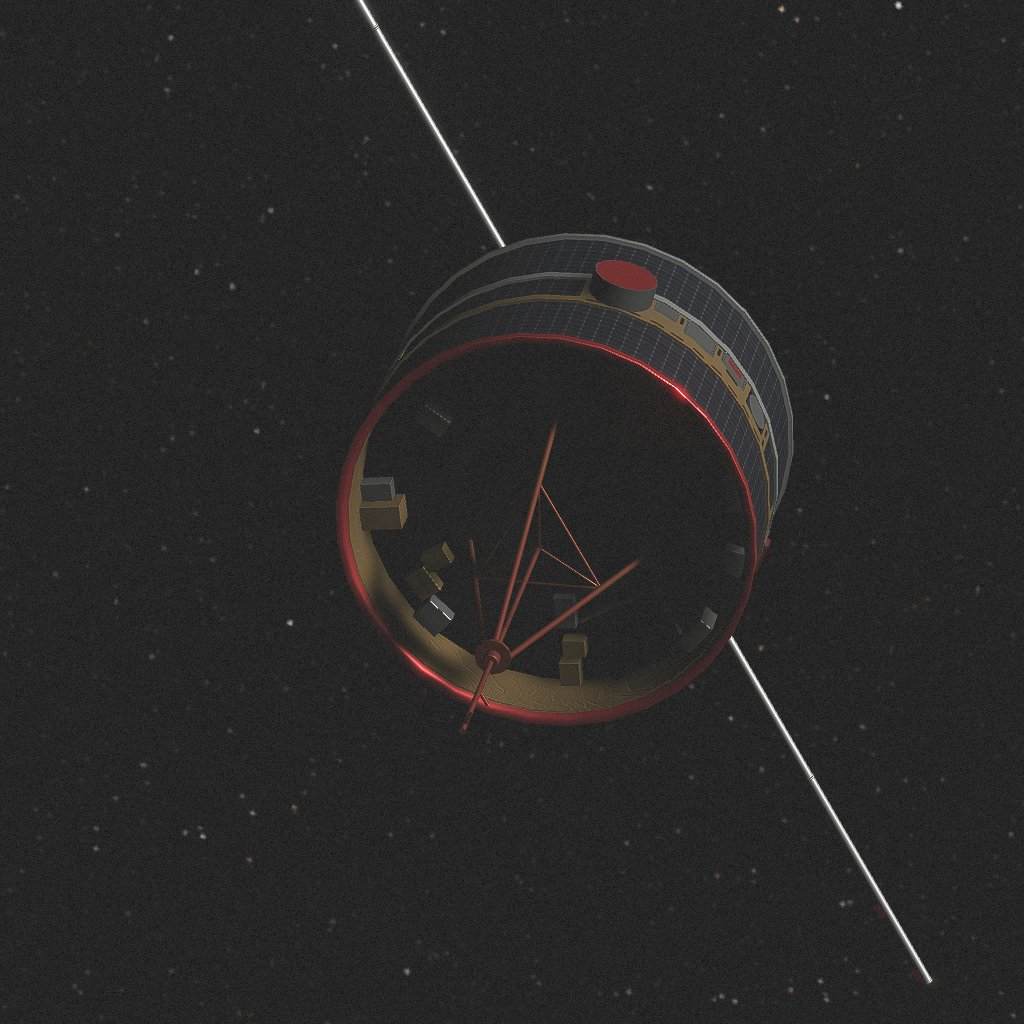double_star: (335, 0, 932, 985)
